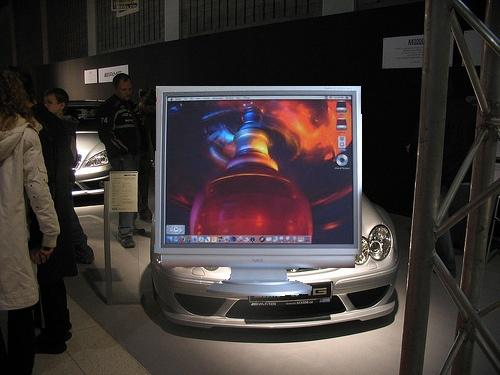tampered: (155, 87, 362, 296)
